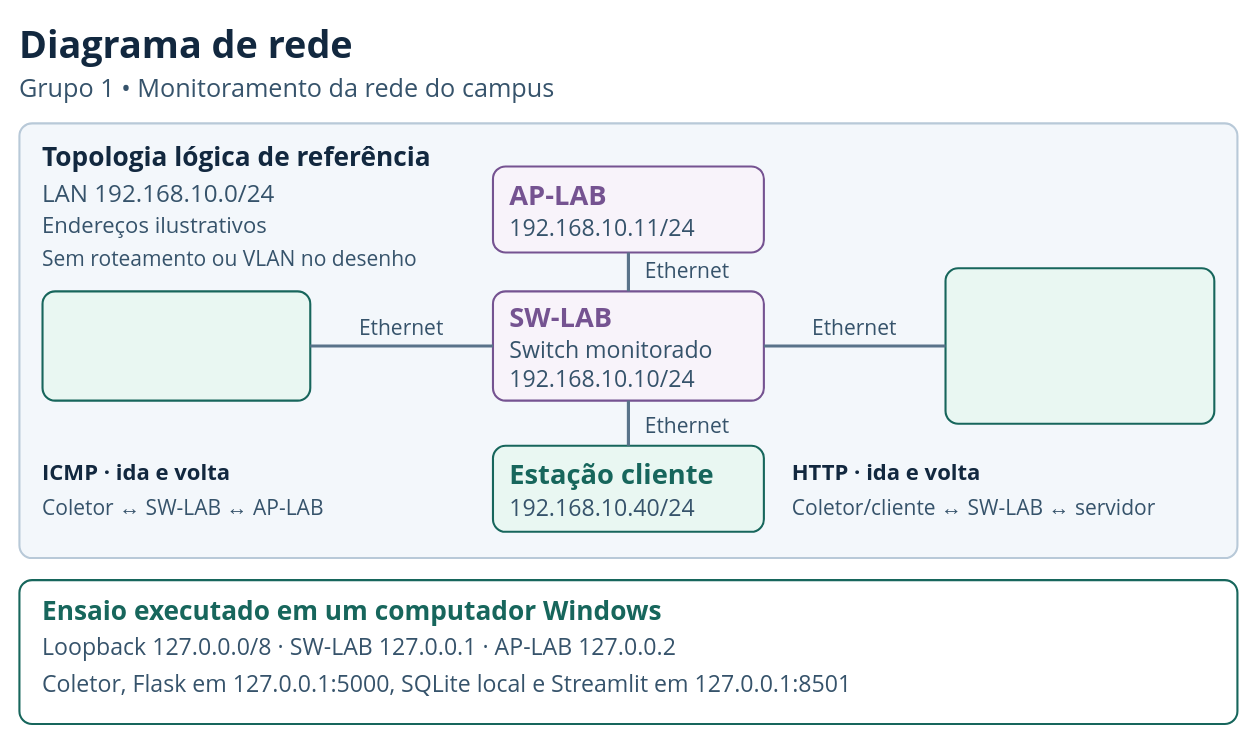
This 1256x743 diagram has some shape labels left out. The shapes that lost their labels are listed below. From the top down, each one's box as (x1, y1, x2, y2) in pixels, then its label:
(41, 290, 311, 401): Host coletor 192.168.10.20/24
(944, 267, 1215, 424): Servidor central 192.168.10.30/24 API Flask · TCP 5000 Streamlit · TCP 8501
